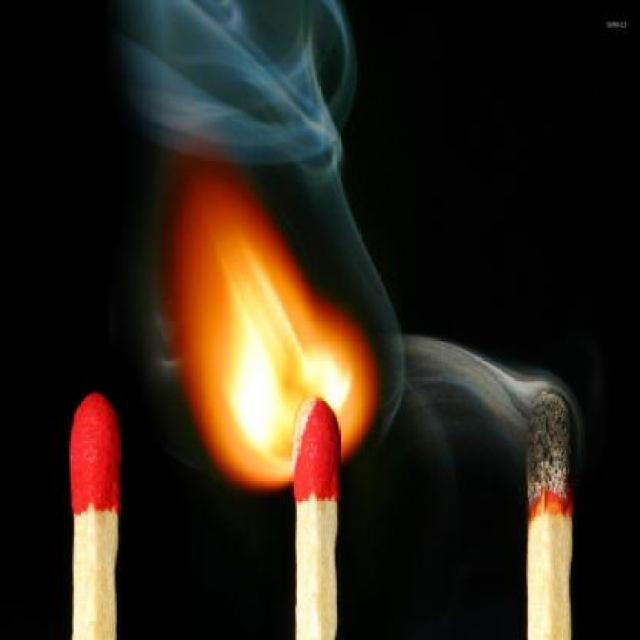Fire: (164, 165, 380, 496)
